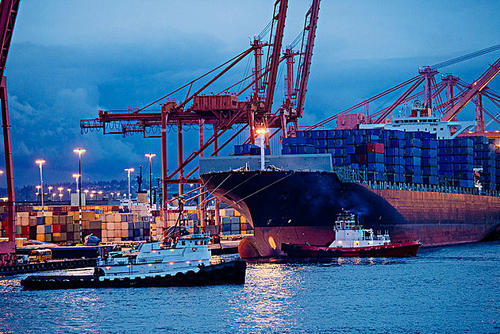Cargoship: (196, 52, 500, 260)
otherboat: (32, 228, 248, 286), (281, 209, 423, 261)
